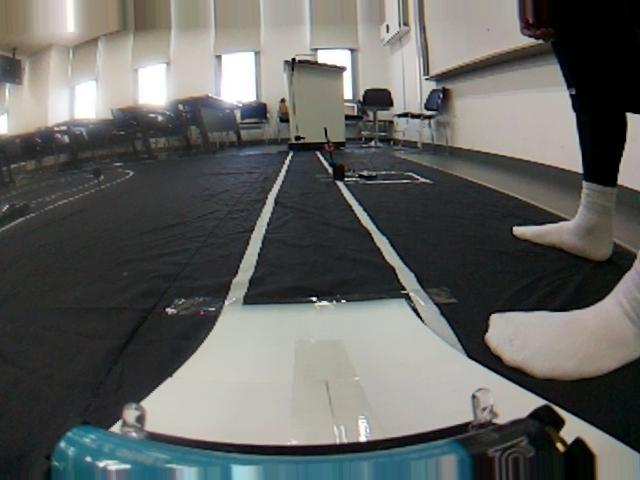hill_down: (44, 286, 640, 480)
sign_stop: (324, 140, 339, 155)
